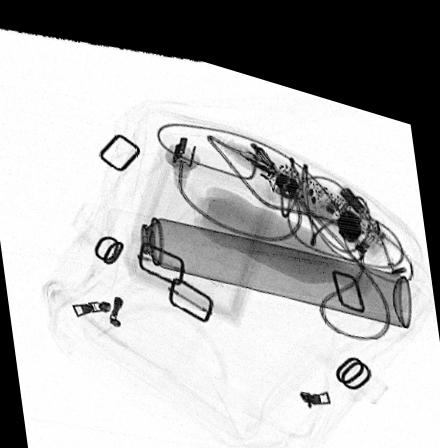Sprayer: (106, 200, 411, 305)
